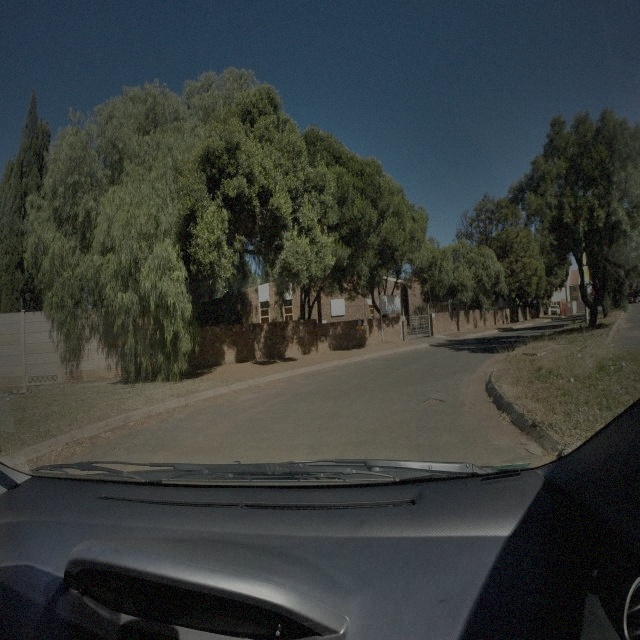pothole: (419, 394, 444, 408)
